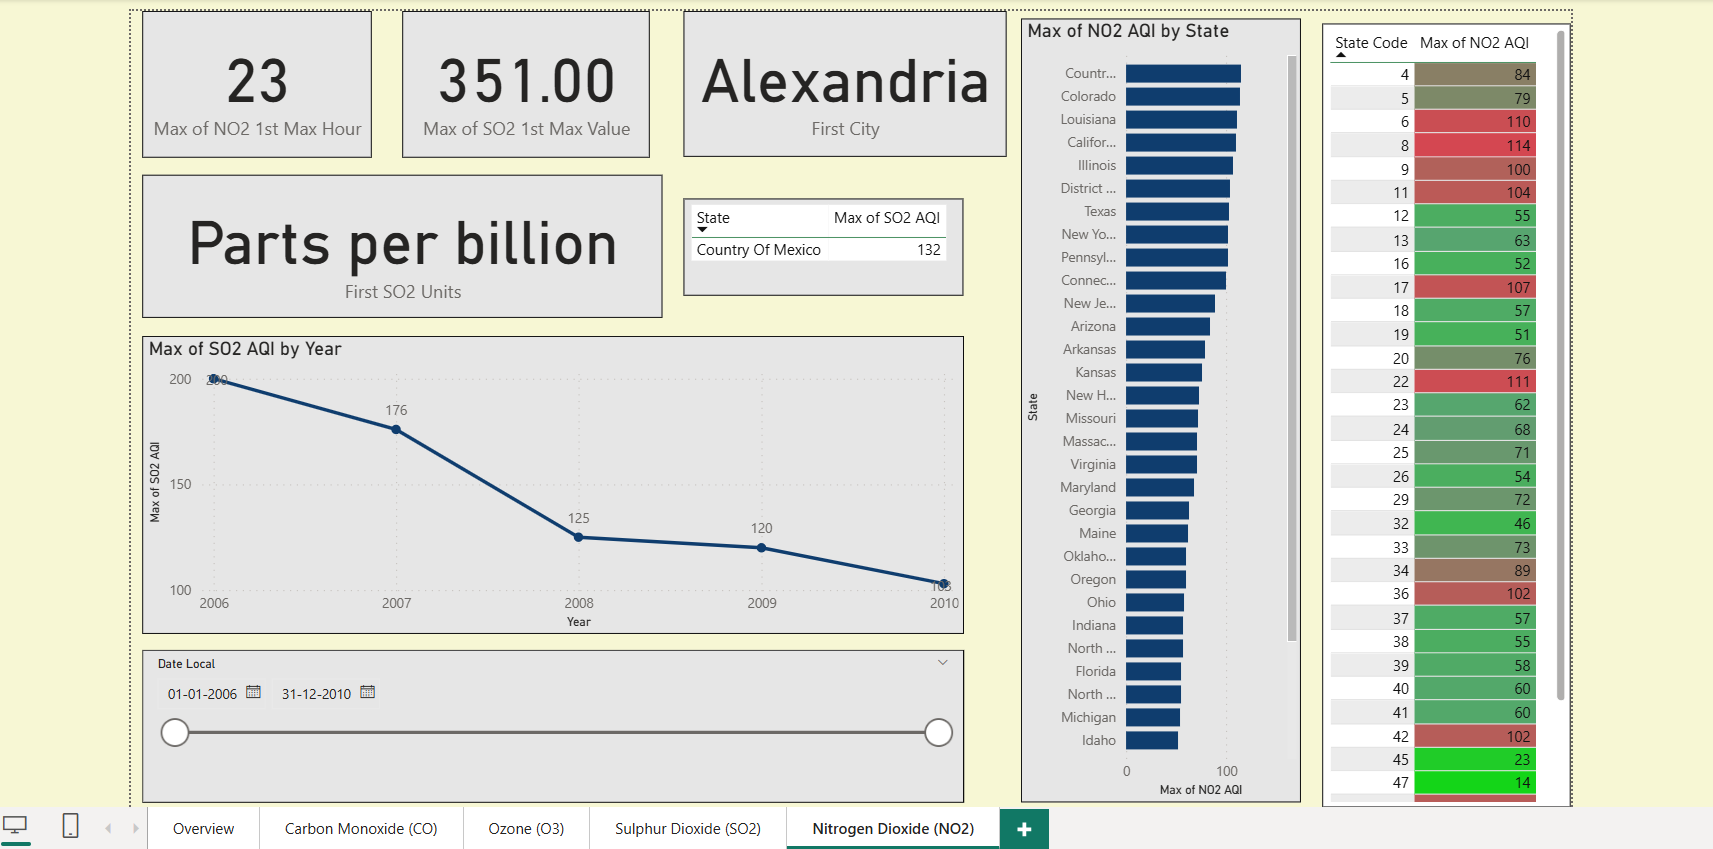

The page's visual inventory and layout, read from the dashboard file:
{"tool":"powerbi","page":{"name":"Nitrogen Dioxide (NO2)","canvas":[1280,720],"ordinal":4},"visuals":[{"type":"card","fields":{"Values":["Max(US Pollution 2006-2010.NO2 1st Max Hour)"]},"box":[10,0,203.8,130],"z":0},{"type":"card","fields":{"Values":["Max(US Pollution 2006-2010.SO2 1st Max Value)"]},"box":[241.2,0,220,130],"z":1000},{"type":"card","fields":{"Values":["Min(US Pollution 2006-2010.City)"]},"box":[491,0,287,129.4],"z":2000},{"type":"barChart","fields":{"Category":["US Pollution 2006-2010.State"],"Y":["Max(US Pollution 2006-2010.NO2 AQI)"]},"box":[790.7,7,249,696.4],"z":3000},{"type":"tableEx","fields":{"Values":["US Pollution 2006-2010.State Code","Max(US Pollution 2006-2010.NO2 AQI)"]},"box":[1059.4,11.3,220.9,696.4],"z":4000},{"type":"card","title":"O3 Units","fields":{"Values":["Min(US Pollution 2006-2010.SO2 Units)"]},"box":[10,145,462.5,127.5],"z":5000},{"type":"tableEx","fields":{"Values":["US Pollution 2006-2010.State","Max(US Pollution 2006-2010.SO2 AQI)"]},"box":[491.2,166.2,248.8,86.2],"z":6000},{"type":"lineChart","fields":{"Category":["US Pollution 2006-2010.Date Local.Variation.Date Hierarchy.Year"],"Y":["Max(US Pollution 2006-2010.SO2 AQI)"]},"box":[10,288.8,730,265],"z":7000},{"type":"slicer","fields":{"Values":["US Pollution 2006-2010.Date Local"]},"box":[10,567.5,730,136.2],"z":8000}]}

Visuals, with their boxes on the page's 1280x720 design canvas (x1, y1, x2, y2). These are canvas units, not pixel positions in the 1713x849 screenshot, which may show the page scaled, cropped or inside an application window:
card - Max(US Pollution 2006-2010.NO2 1st Max Hour): crop(10, 0, 214, 130)
card - Max(US Pollution 2006-2010.SO2 1st Max Value): crop(241, 0, 461, 130)
card - Min(US Pollution 2006-2010.City): crop(491, 0, 778, 129)
barChart - US Pollution 2006-2010.State x Max(US Pollution 2006-2010.NO2 AQI): crop(791, 7, 1040, 703)
tableEx - US Pollution 2006-2010.State Code x Max(US Pollution 2006-2010.NO2 AQI): crop(1059, 11, 1280, 708)
"O3 Units" card: crop(10, 145, 472, 272)
tableEx - US Pollution 2006-2010.State x Max(US Pollution 2006-2010.SO2 AQI): crop(491, 166, 740, 252)
lineChart - US Pollution 2006-2010.Date Local.Variation.Date Hierarchy.Year x Max(US Pollution 2006-2010.SO2 AQI): crop(10, 289, 740, 554)
slicer - US Pollution 2006-2010.Date Local: crop(10, 568, 740, 704)
